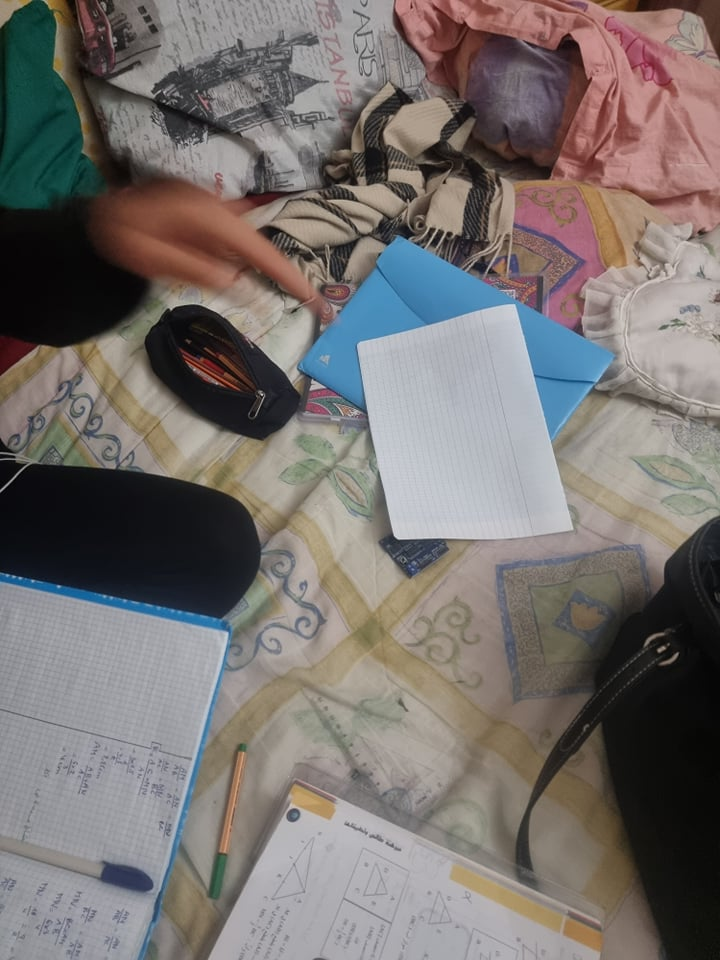5V EXPANSION: (377, 528, 455, 578)
